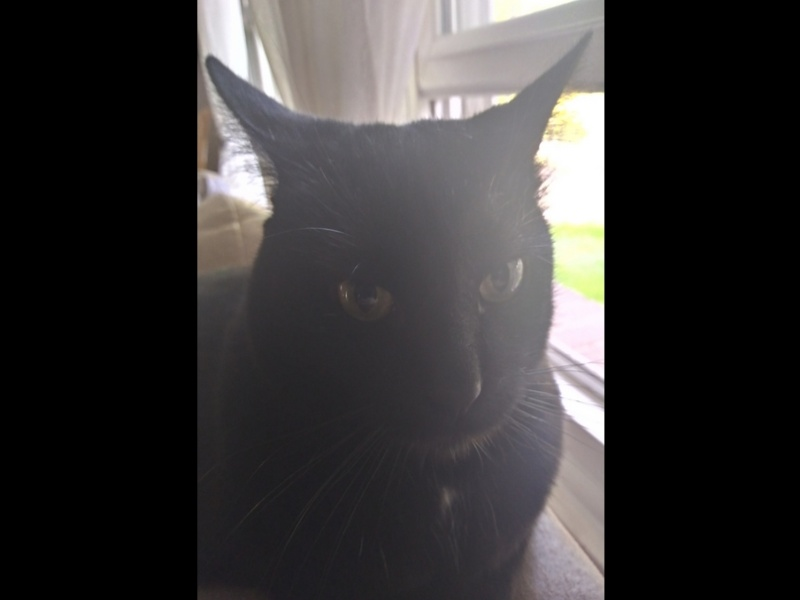cat: (202, 29, 596, 590)
